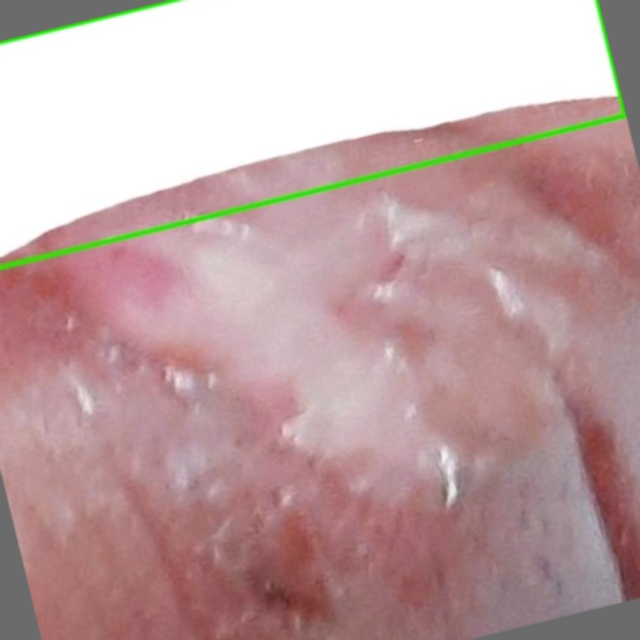Contact Dermatitis: (0, 0, 625, 267)
